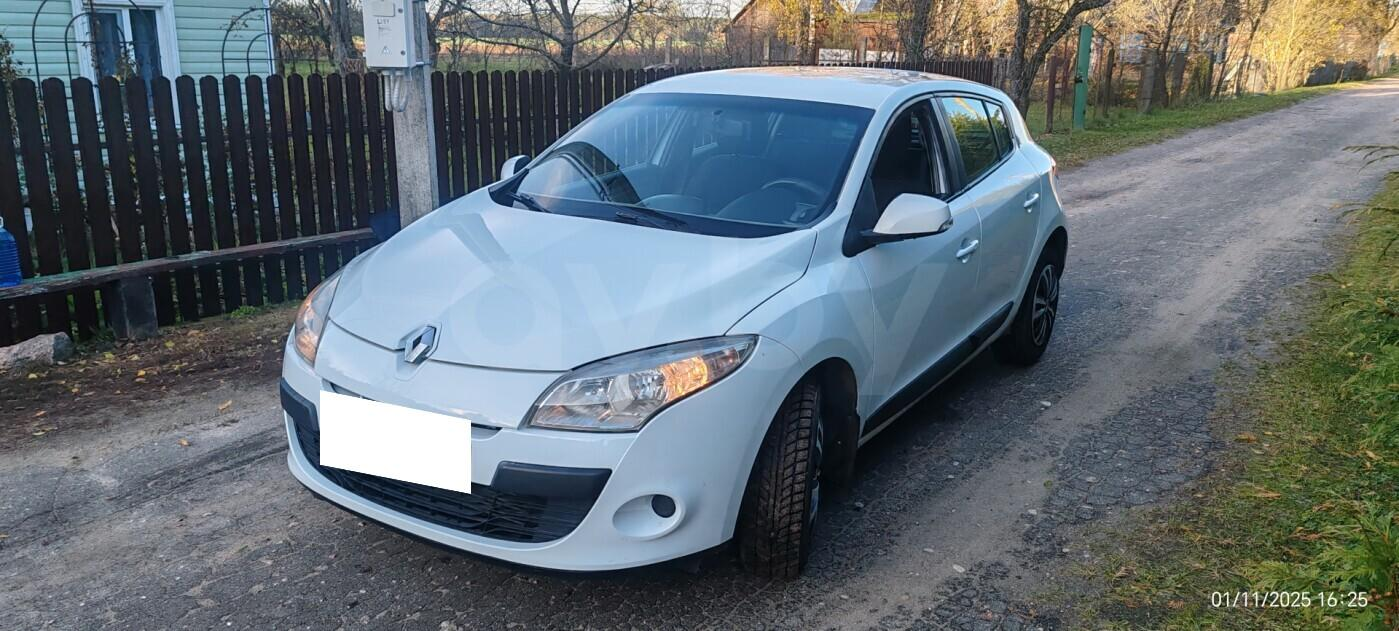Megane_2008-2014: (275, 58, 1079, 583)
